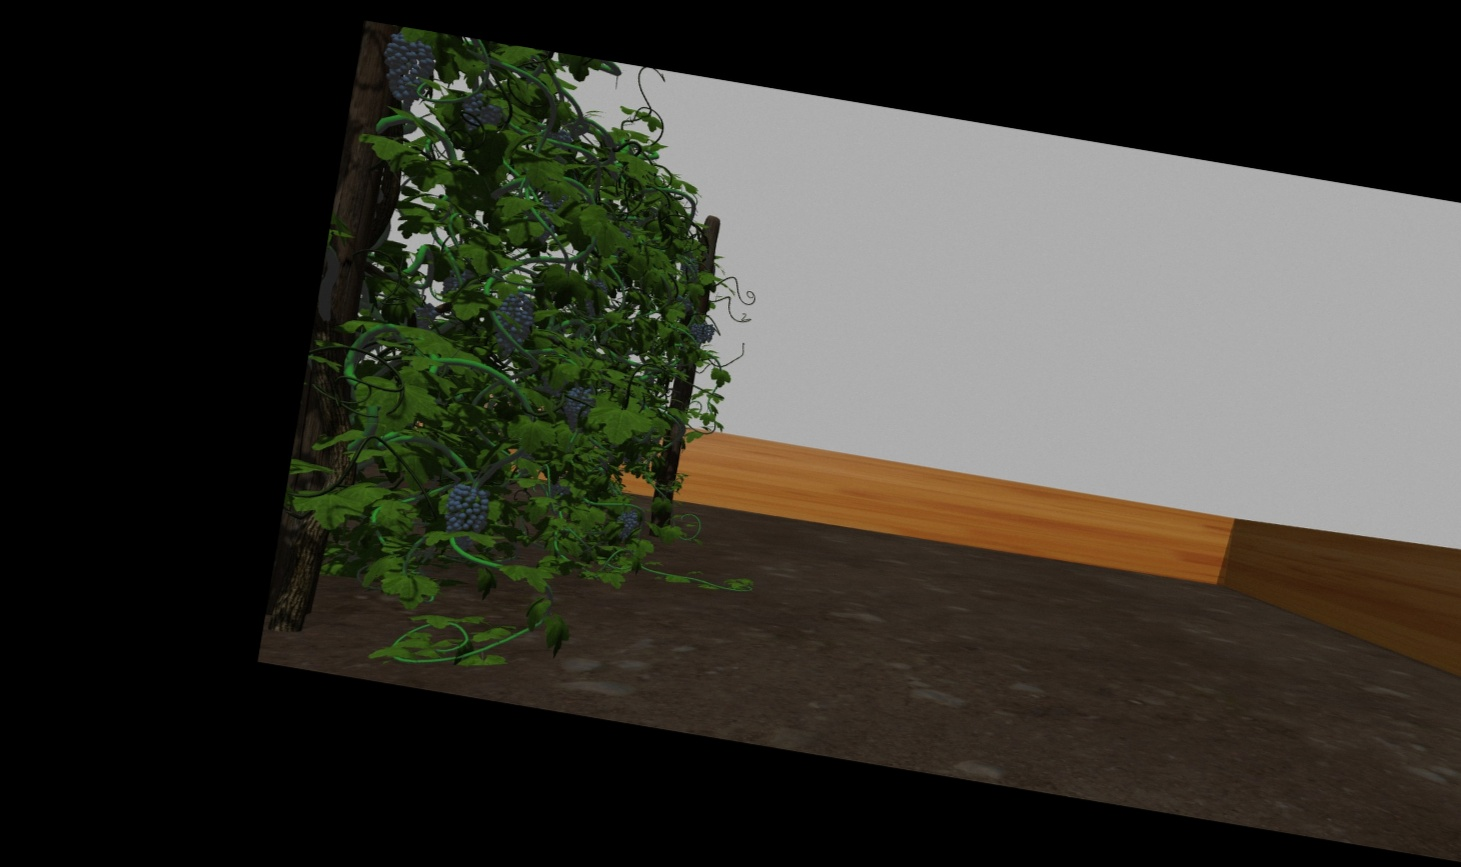grape: (382, 30, 432, 104), (441, 482, 487, 538), (495, 295, 533, 351), (462, 90, 504, 134), (562, 386, 593, 432), (615, 510, 639, 541), (701, 324, 715, 345), (689, 322, 702, 342)
